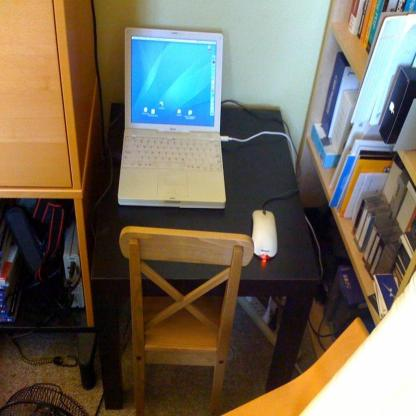board: (113, 29, 225, 217)
